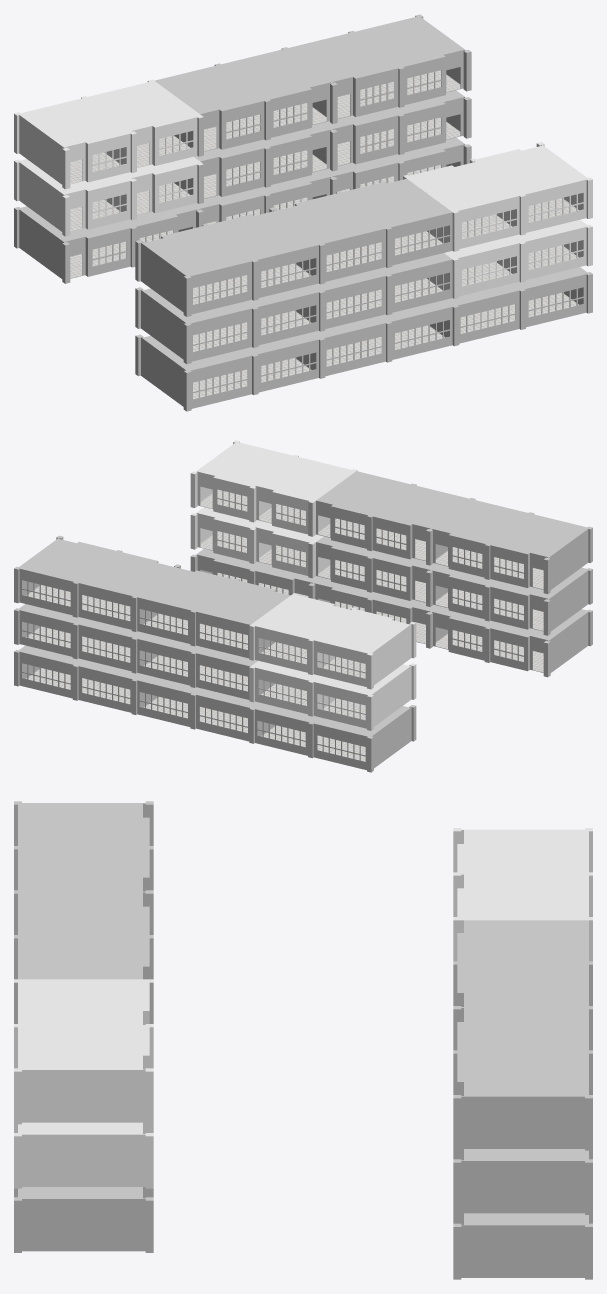
Rendered from Labs-transformed.glb.
The picture shows the model from 3 angles, top to bottom: view 1: azimuth 30°, elevation 25°; view 2: azimuth 150°, elevation 25°; view 3: azimuth 270°, elevation 25°; orthographic projection. The views are drawn at different scales.
Parts seen in each view (by area): view 1: lab-lt1-left, small-room.lt2; view 2: lab-lt1-left, small-room.lt2; view 3: lab-lt1-left, small-room.lt2.
Part boxes in pixels (x1,y1,x2,y2): lab-lt1-left: [14, 14, 592, 411]; small-room.lt2: [14, 79, 592, 298]; lab-lt1-left: [14, 471, 592, 772]; small-room.lt2: [190, 440, 416, 730]; lab-lt1-left: [14, 801, 592, 1279]; small-room.lt2: [14, 828, 592, 1188].
Size of the model in its own units: 16.01 by 4.56 by 13.2.
4 materials, 2 textured.
